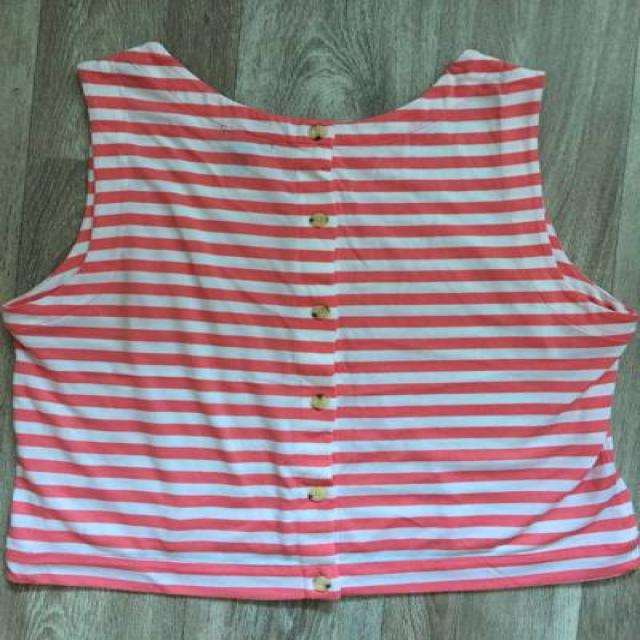Clothes -Biodegradable-: (4, 44, 640, 607)
